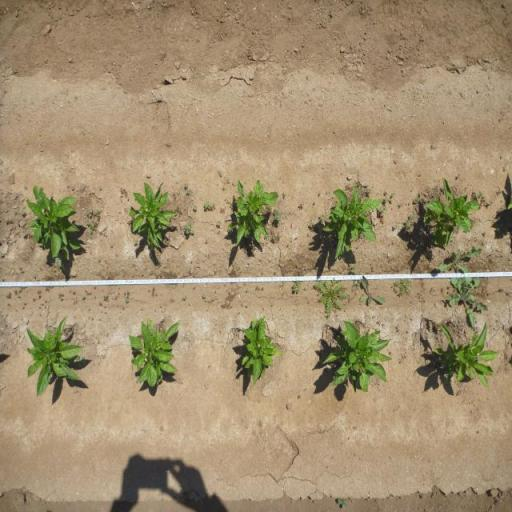plant: (322, 318, 392, 396), (27, 184, 83, 271), (432, 321, 500, 388), (29, 314, 77, 399), (325, 191, 381, 262), (128, 316, 182, 386), (129, 181, 178, 253), (424, 178, 472, 248), (240, 315, 283, 388), (230, 178, 272, 252)
weed: (450, 276, 488, 324), (315, 280, 349, 320), (438, 246, 484, 272), (360, 278, 386, 307), (394, 278, 412, 296), (404, 212, 416, 230), (86, 220, 100, 234), (272, 209, 282, 225), (86, 209, 100, 220), (412, 195, 426, 205), (204, 201, 216, 212), (76, 354, 86, 367), (477, 191, 486, 204), (185, 222, 194, 234), (270, 230, 278, 243), (379, 205, 388, 215), (294, 280, 300, 294), (120, 188, 128, 198), (353, 279, 361, 289), (350, 265, 358, 275), (124, 290, 130, 303), (496, 189, 504, 198), (345, 183, 353, 191), (470, 191, 476, 201), (318, 214, 325, 222), (45, 285, 53, 292), (308, 223, 314, 232), (58, 292, 64, 301), (18, 286, 27, 292), (172, 192, 177, 202), (488, 199, 494, 207), (386, 196, 392, 204), (20, 208, 26, 216), (84, 290, 92, 296), (382, 190, 388, 197), (298, 202, 304, 209), (72, 298, 78, 305), (380, 217, 385, 225), (152, 286, 156, 296), (220, 207, 226, 213), (192, 204, 198, 210), (255, 285, 260, 292), (104, 294, 109, 301), (456, 172, 461, 178), (216, 220, 221, 226), (15, 219, 20, 225), (6, 292, 11, 298), (282, 192, 286, 199), (398, 202, 404, 206), (390, 192, 394, 198), (368, 188, 372, 194), (312, 200, 316, 206), (229, 201, 233, 207), (22, 231, 26, 237), (260, 286, 264, 292), (98, 301, 102, 307), (25, 320, 29, 326), (23, 302, 26, 310), (394, 224, 398, 229), (318, 191, 322, 196), (184, 183, 188, 188), (182, 296, 187, 300), (14, 289, 18, 294), (19, 267, 23, 272), (430, 288, 434, 293), (243, 282, 247, 286), (202, 294, 206, 298), (114, 296, 118, 300), (94, 294, 98, 298), (82, 295, 85, 300), (33, 297, 36, 302), (16, 295, 21, 298), (99, 186, 102, 191), (217, 230, 220, 234), (186, 191, 190, 194), (246, 288, 249, 292), (245, 304, 248, 308), (172, 298, 175, 302), (94, 284, 96, 290), (73, 291, 76, 295), (38, 290, 42, 293), (38, 294, 41, 298), (69, 288, 71, 294), (110, 244, 113, 248), (0, 254, 5, 256), (241, 302, 242, 308), (33, 276, 36, 278), (1, 278, 4, 280), (206, 240, 208, 242), (44, 300, 46, 302)
